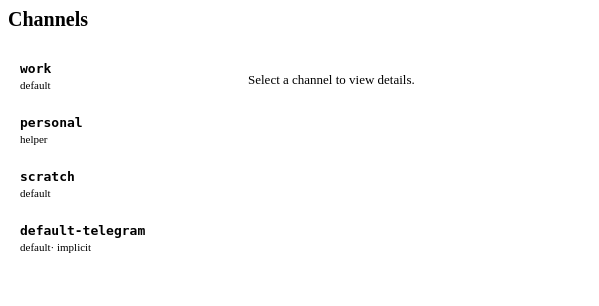
Scenario: Channels page › implicit channel shows Implicit badge
Expected: the text "default-telegram" is shown, x1=20 y1=223 x2=145 y2=238
Step 1. Click the button "default-telegram default· implicit" → (83, 238), box x1=20 y1=223 x2=145 y2=253
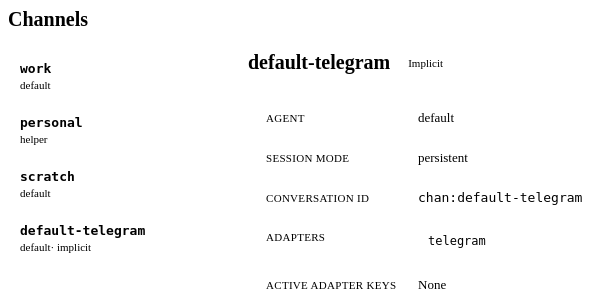
Now the text "Implicit" is shown, box x1=408 y1=56 x2=443 y2=68
